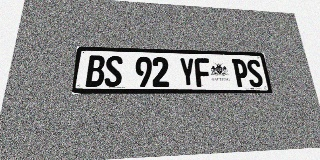2: (152, 57, 169, 87)
9: (135, 56, 152, 87)
B: (85, 55, 105, 87)
F: (194, 58, 212, 87)
P: (232, 59, 250, 87)
S: (104, 56, 123, 87), (246, 59, 264, 87)
Y: (179, 58, 196, 87)
